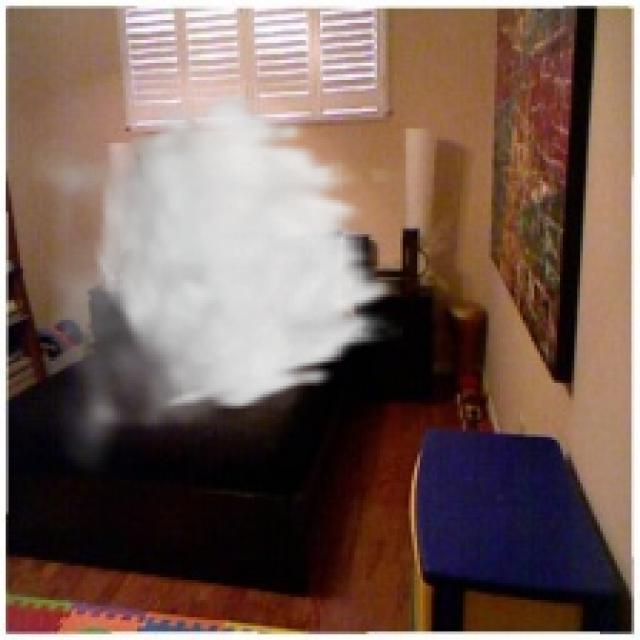Smoke: (20, 88, 403, 480)
